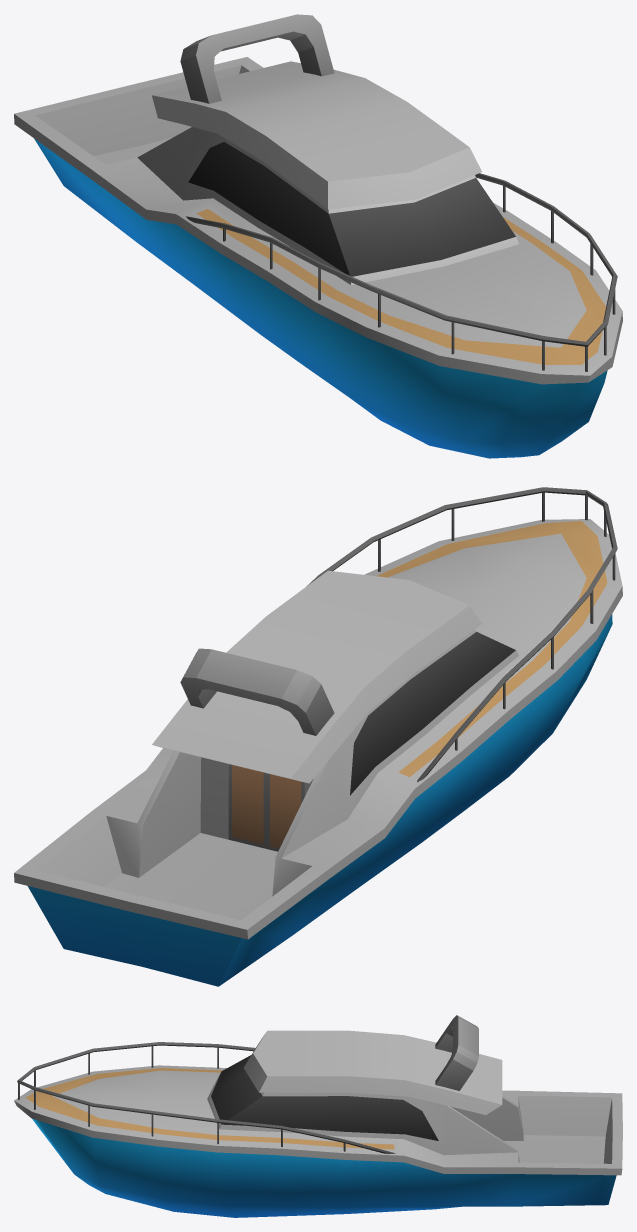
The model's file is sports yacht.fbx.
3 views of the same model, one above another, from view 1: azimuth 30°, elevation 25°; view 2: azimuth 150°, elevation 25°; view 3: azimuth 270°, elevation 25° (orthographic). The views are drawn at different scales.
Visible parts, largest first — view 1: sports_yacht; view 2: sports_yacht; view 3: sports_yacht.
Part boxes in pixels (x1,y1,x2,y2): sports_yacht: (14, 14, 622, 458); sports_yacht: (14, 487, 622, 986); sports_yacht: (14, 1015, 622, 1217).
Size of the model in its own units: 415 by 438 by 1364.
1 material, 1 textured.
